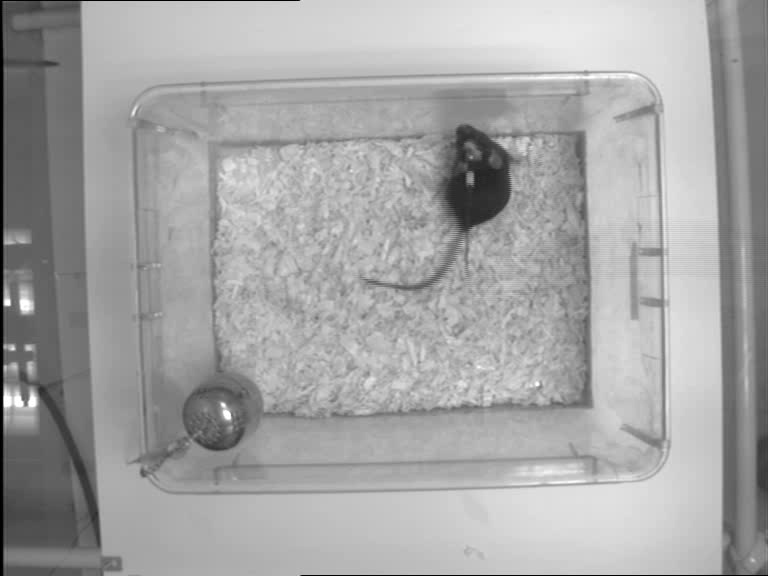mice: (362, 119, 519, 299)
